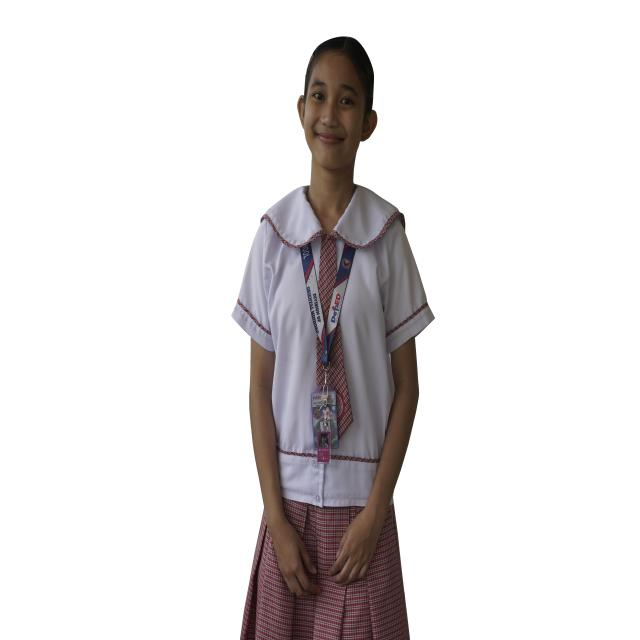id lace: (300, 240, 356, 367)
pologirl: (233, 183, 432, 512)
skirt: (240, 499, 409, 640)
